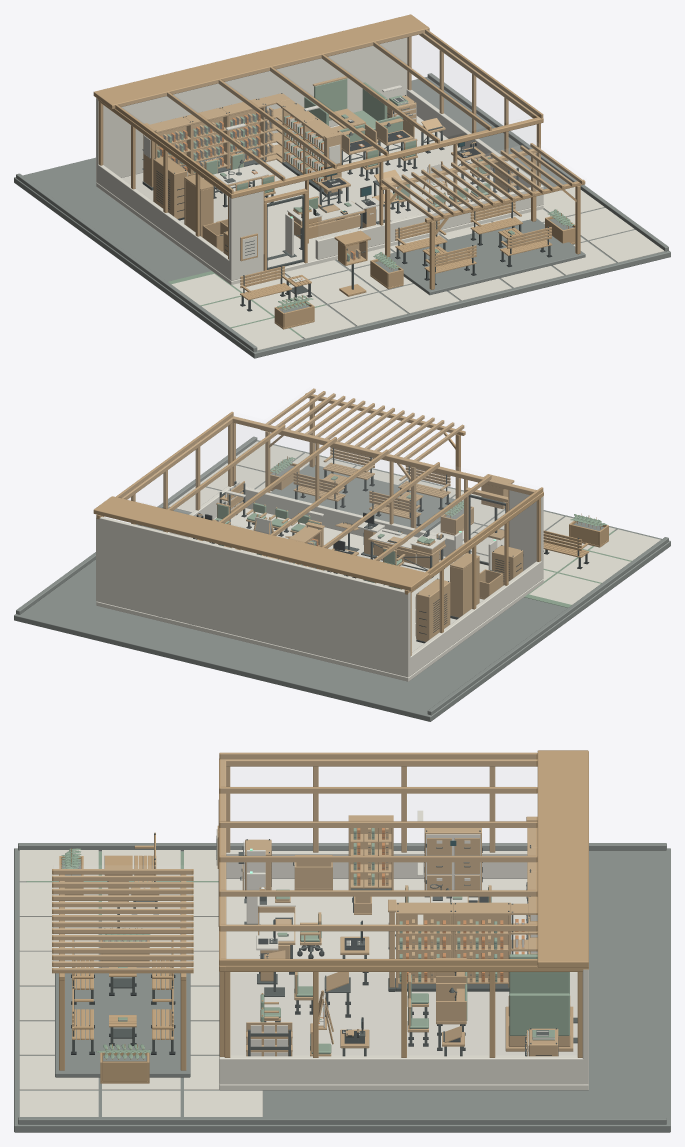
The model's file is public-library-and-reading-garden-public-4ac9558d-starter-scene__30951.glb.
3 renders of one model, top to bottom at view 1: azimuth 30°, elevation 25°; view 2: azimuth 150°, elevation 25°; view 3: azimuth 270°, elevation 25°, orthographic. The views are drawn at different scales.
Visible parts, largest first — view 1: 001-public-library-and-reading-garden-roofed-library-hall/0, 001-public-library-and-reading-garden-roofed-library-hall/1, 000-public-library-and-reading-garden-library-garden-base/1, 000-public-library-and-reading-garden-library-garden-base/0, 070-public-library-and-reading-garden-reading-garden-pergola (×2), 001-public-library-and-reading-garden-roofed-library-hall/2, 018-public-library-and-reading-garden-reservation-pickup-loc, 023-public-library-and-reading-garden-library-stack-straight, 015-public-library-and-reading-garden-sorting-shelf/1, 022-public-library-and-reading-garden-library-stack-straight, 082-public-library-and-reading-garden-rain-book-shelter/0, 025-public-library-and-reading-garden-library-stack-corner/0 (+18 smaller); view 2: 001-public-library-and-reading-garden-roofed-library-hall/0, 000-public-library-and-reading-garden-library-garden-base/0, 001-public-library-and-reading-garden-roofed-library-hall/1, 001-public-library-and-reading-garden-roofed-library-hall/2, 070-public-library-and-reading-garden-reading-garden-pergola (×2), 000-public-library-and-reading-garden-library-garden-base/1, 018-public-library-and-reading-garden-reservation-pickup-loc, 015-public-library-and-reading-garden-sorting-shelf/1, 005-public-library-and-reading-garden-circulation-desk/2, 076-public-library-and-reading-garden-garden-reading-bench/2, 083-public-library-and-reading-garden-garden-reading-bench/2, 013-public-library-and-reading-garden-book-return-slot-cabin (+9 smaller); view 3: 000-public-library-and-reading-garden-library-garden-base/0, 001-public-library-and-reading-garden-roofed-library-hall/0, 001-public-library-and-reading-garden-roofed-library-hall/1, 000-public-library-and-reading-garden-library-garden-base/1, 070-public-library-and-reading-garden-reading-garden-pergola (×2), 001-public-library-and-reading-garden-roofed-library-hall/2, 042-public-library-and-reading-garden-group-study-booth/1, 018-public-library-and-reading-garden-reservation-pickup-loc (×2), 026-public-library-and-reading-garden-library-stack-straight, 027-public-library-and-reading-garden-library-stack-straight, 015-public-library-and-reading-garden-sorting-shelf/1, 067-public-library-and-reading-garden-periodical-display-rac (×2) (+12 smaller).
Boxes of the visible parts, bbox=[...] form: 001-public-library-and-reading-garden-roofed-library-hall/0: bbox=[96, 37, 543, 284]; 001-public-library-and-reading-garden-roofed-library-hall/1: bbox=[93, 14, 543, 259]; 000-public-library-and-reading-garden-library-garden-base/1: bbox=[171, 187, 664, 350]; 000-public-library-and-reading-garden-library-garden-base/0: bbox=[14, 73, 670, 358]; 070-public-library-and-reading-garden-reading-garden-pergola (×2): bbox=[380, 143, 585, 295]; 001-public-library-and-reading-garden-roofed-library-hall/2: bbox=[411, 35, 535, 175]; 018-public-library-and-reading-garden-reservation-pickup-loc: bbox=[153, 156, 188, 218]; 023-public-library-and-reading-garden-library-stack-straight: bbox=[220, 98, 265, 168]; 015-public-library-and-reading-garden-sorting-shelf/1: bbox=[184, 174, 213, 237]; 022-public-library-and-reading-garden-library-stack-straight: bbox=[184, 107, 228, 175]; 082-public-library-and-reading-garden-rain-book-shelter/0: bbox=[334, 230, 370, 296]; 025-public-library-and-reading-garden-library-stack-corner/0: bbox=[257, 93, 295, 163]; 001-public-library-and-reading-garden-roofed-library-hall/0: bbox=[96, 486, 543, 681]; 000-public-library-and-reading-garden-library-garden-base/0: bbox=[14, 436, 670, 721]; 001-public-library-and-reading-garden-roofed-library-hall/1: bbox=[93, 411, 543, 655]; 001-public-library-and-reading-garden-roofed-library-hall/2: bbox=[129, 424, 453, 536]; 070-public-library-and-reading-garden-reading-garden-pergola (×2): bbox=[260, 388, 465, 531]; 000-public-library-and-reading-garden-library-garden-base/1: bbox=[168, 441, 660, 604]; 018-public-library-and-reading-garden-reservation-pickup-loc: bbox=[415, 579, 450, 641]; 015-public-library-and-reading-garden-sorting-shelf/1: bbox=[450, 553, 479, 617]; 005-public-library-and-reading-garden-circulation-desk/2: bbox=[368, 532, 445, 568]; 076-public-library-and-reading-garden-garden-reading-bench/2: bbox=[323, 447, 374, 480]; 083-public-library-and-reading-garden-garden-reading-bench/2: bbox=[543, 530, 589, 557]; 013-public-library-and-reading-garden-book-return-slot-cabin: bbox=[492, 545, 523, 585]; 000-public-library-and-reading-garden-library-garden-base/0: bbox=[14, 843, 670, 1132]; 001-public-library-and-reading-garden-roofed-library-hall/0: bbox=[219, 810, 588, 1090]; 001-public-library-and-reading-garden-roofed-library-hall/1: bbox=[219, 750, 588, 1057]; 000-public-library-and-reading-garden-library-garden-base/1: bbox=[19, 850, 262, 1116]; 070-public-library-and-reading-garden-reading-garden-pergola (×2): bbox=[52, 869, 193, 1077]; 001-public-library-and-reading-garden-roofed-library-hall/2: bbox=[231, 768, 535, 848]; 042-public-library-and-reading-garden-group-study-booth/1: bbox=[509, 954, 569, 1035]; 018-public-library-and-reading-garden-reservation-pickup-loc (×2): bbox=[424, 828, 481, 890]; 026-public-library-and-reading-garden-library-stack-straight: bbox=[453, 902, 510, 987]; 027-public-library-and-reading-garden-library-stack-straight: bbox=[396, 902, 453, 987]; 015-public-library-and-reading-garden-sorting-shelf/1: bbox=[348, 815, 393, 890]; 067-public-library-and-reading-garden-periodical-display-rac (×2): bbox=[246, 1022, 292, 1056].
Size of the model in its own units: 16 by 3.72 by 16.
